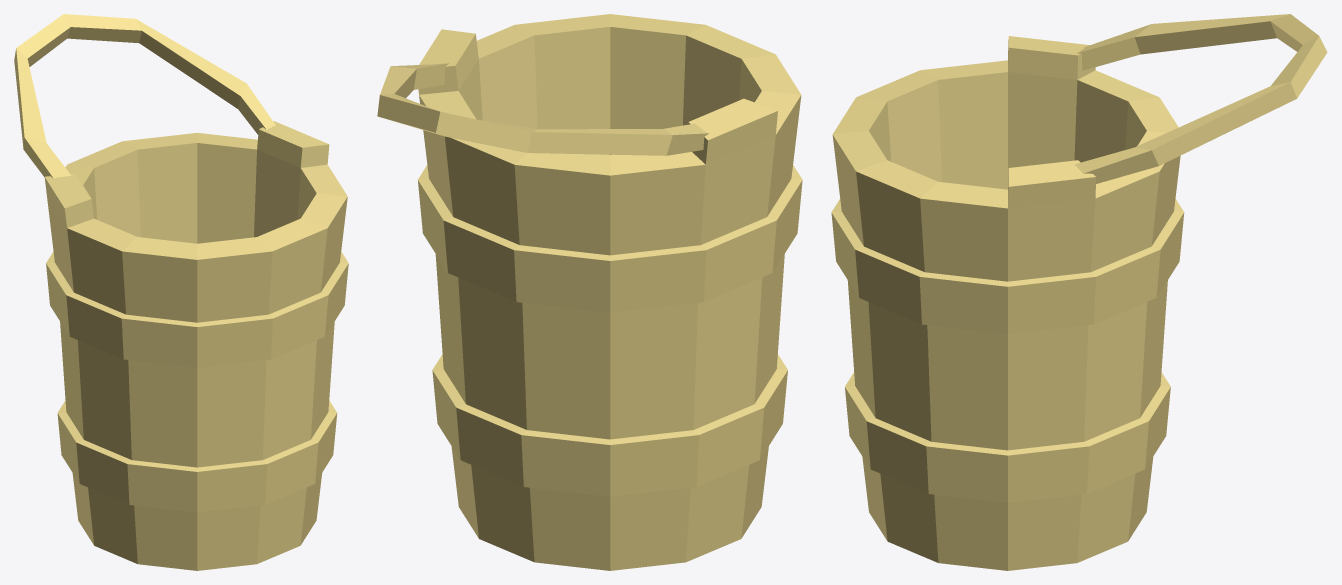
The model's file is Bucket.fbx.
3 views of the same model, side by side, from view 1: azimuth 30°, elevation 25°; view 2: azimuth 150°, elevation 25°; view 3: azimuth 270°, elevation 25° (orthographic). The views are drawn at different scales.
Parts seen in each view (by area): view 1: Bucket; view 2: Bucket; view 3: Bucket.
Part boxes in pixels (<box>): Bucket: <box>14,14,348,570</box>; Bucket: <box>377,14,802,570</box>; Bucket: <box>831,14,1327,570</box>.
Bounding box in the file's own units: 40.31 × 59.51 × 56.16.
